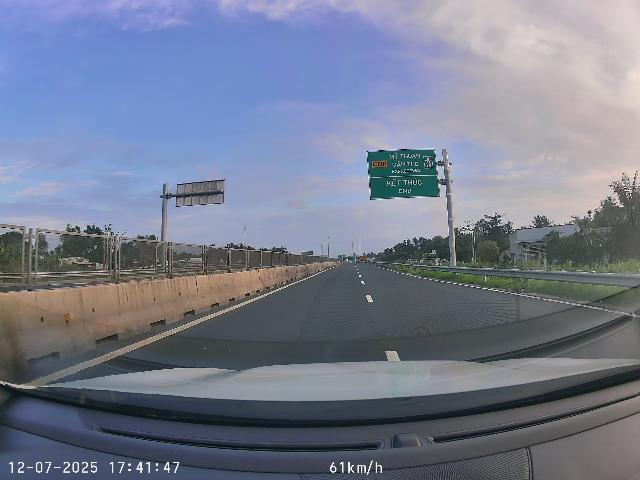438-ket-thuc-duong-cao-toc: (423, 156, 434, 169)
